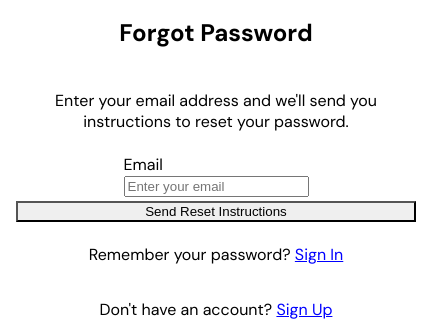
Test case: ForgotPassword › shows success message after submission
The image size is (433, 336).
Type "test@example.com" into the field labelled "Email" at (216, 186), box [124,176,308,197]
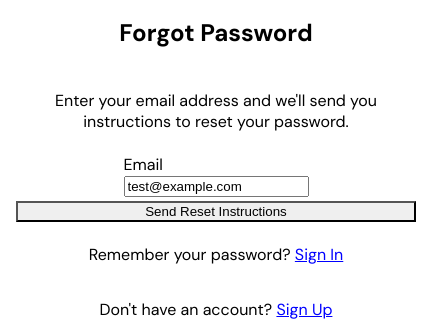
Click the button "Send Reset Instructions" at (216, 211), box [16,201,416,222]
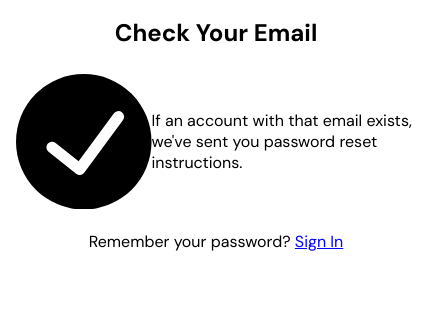
Result: the heading "Check Your Email" is shown at [115,17,317,48]
Result: the text "If an account with that email exists, we've sent you password reset instructions" is shown at [152,110,412,173]
